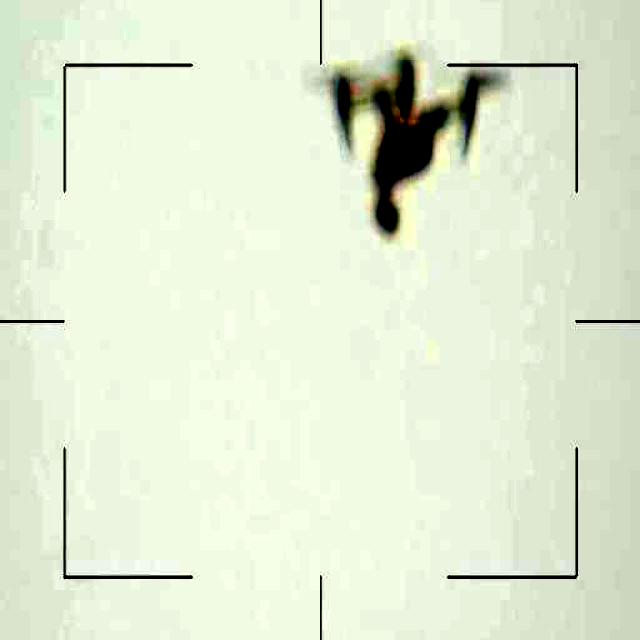bird: (314, 78, 512, 261)
